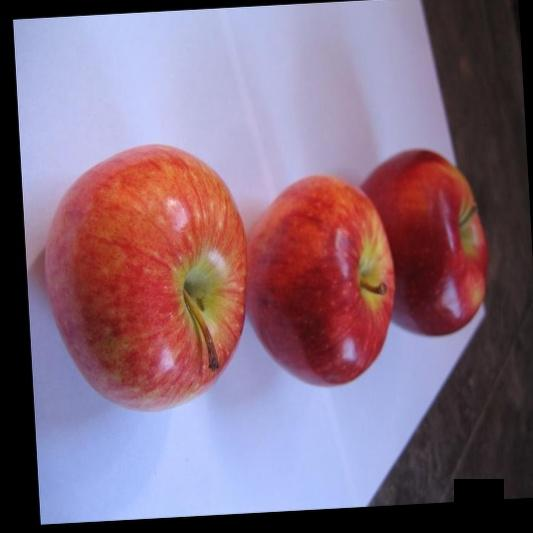red apple: (41, 144, 248, 411), (243, 166, 395, 385), (361, 143, 493, 340)
